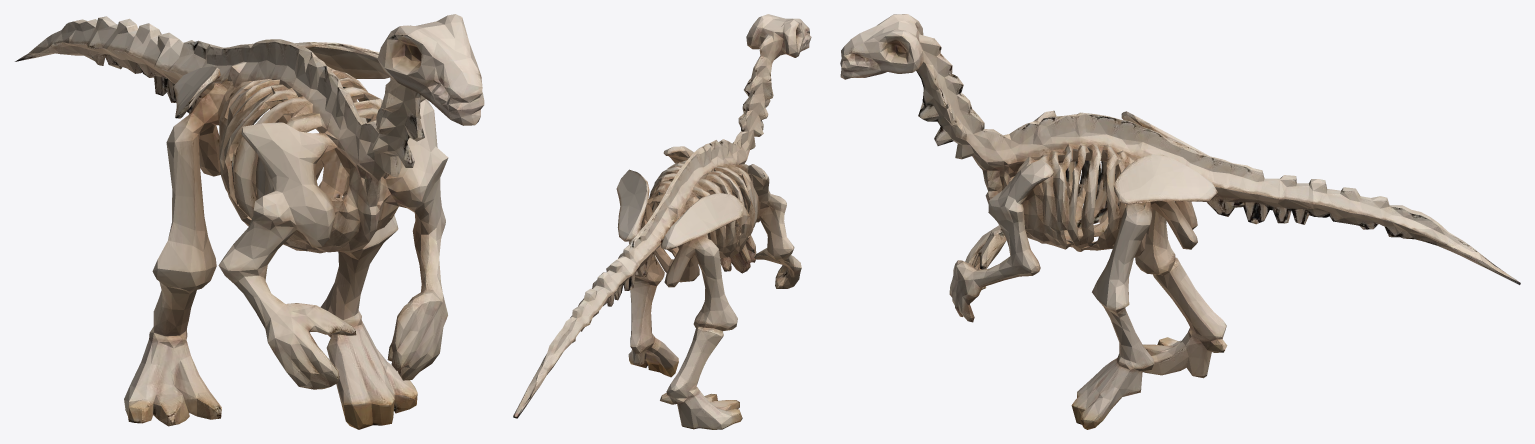
Rendered from plateosaurus-skjelett.glb.
3 views of the same model, side by side, from view 1: azimuth 30°, elevation 25°; view 2: azimuth 150°, elevation 25°; view 3: azimuth 270°, elevation 25° (orthographic). The views are drawn at different scales.
Parts seen in each view (by area): view 1: geometry_0; view 2: geometry_0; view 3: geometry_0.
Boxes of the visible parts, x1=… form: geometry_0: x1=15, y1=14, x2=484, y2=429; geometry_0: x1=513, y1=14, x2=811, y2=429; geometry_0: x1=840, y1=14, x2=1520, y2=429.
Bounding box in the file's own units: 0.2917 × 0.6051 × 1.
Materials: 1 (1 with a texture image).
